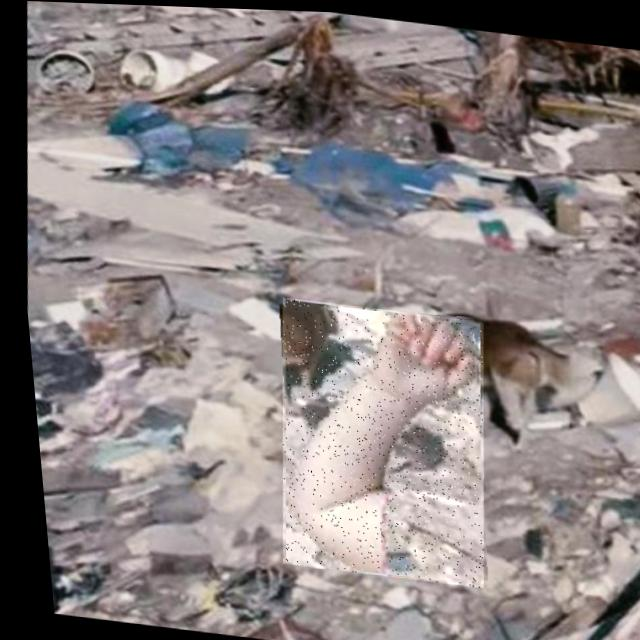Person in Rubble: (253, 294, 496, 585)
